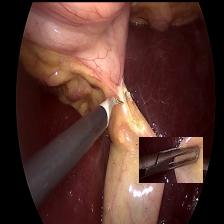Grasper: (138, 136, 202, 182)
Hook: (98, 90, 124, 129)
